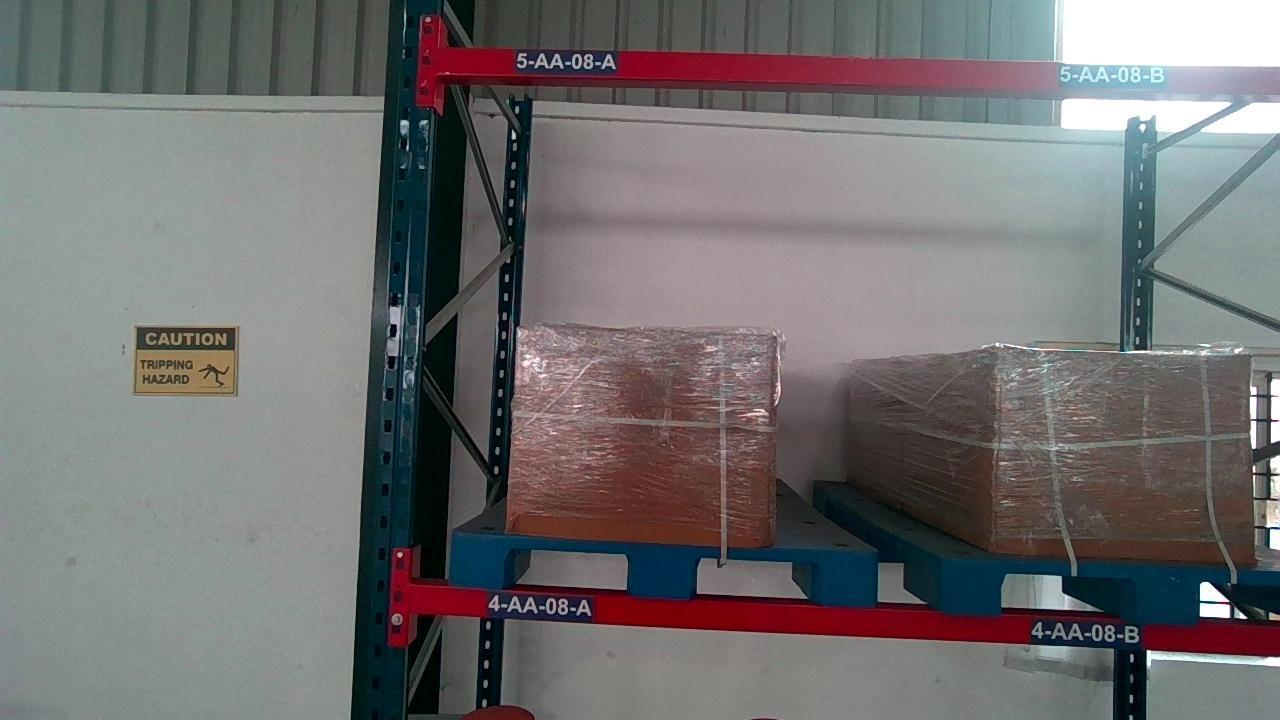h_rack: (414, 583, 1280, 656), (434, 49, 1280, 95)
small_pallet: (445, 539, 879, 597), (955, 557, 1280, 619)
